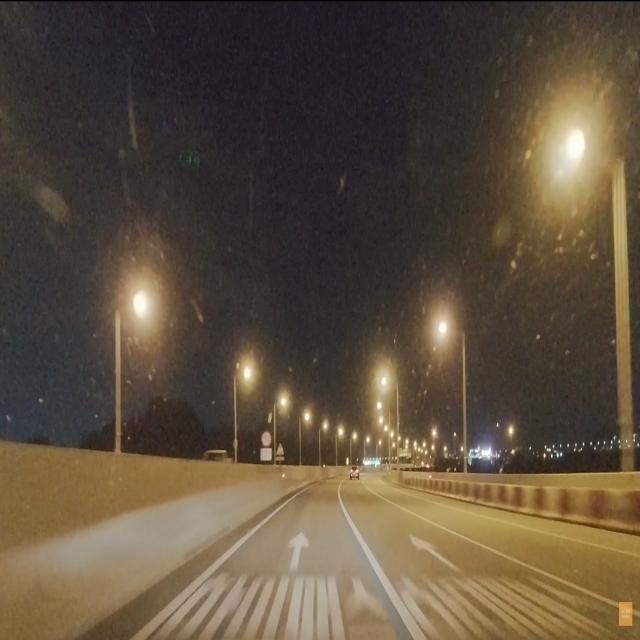forward: (214, 511, 384, 582)
